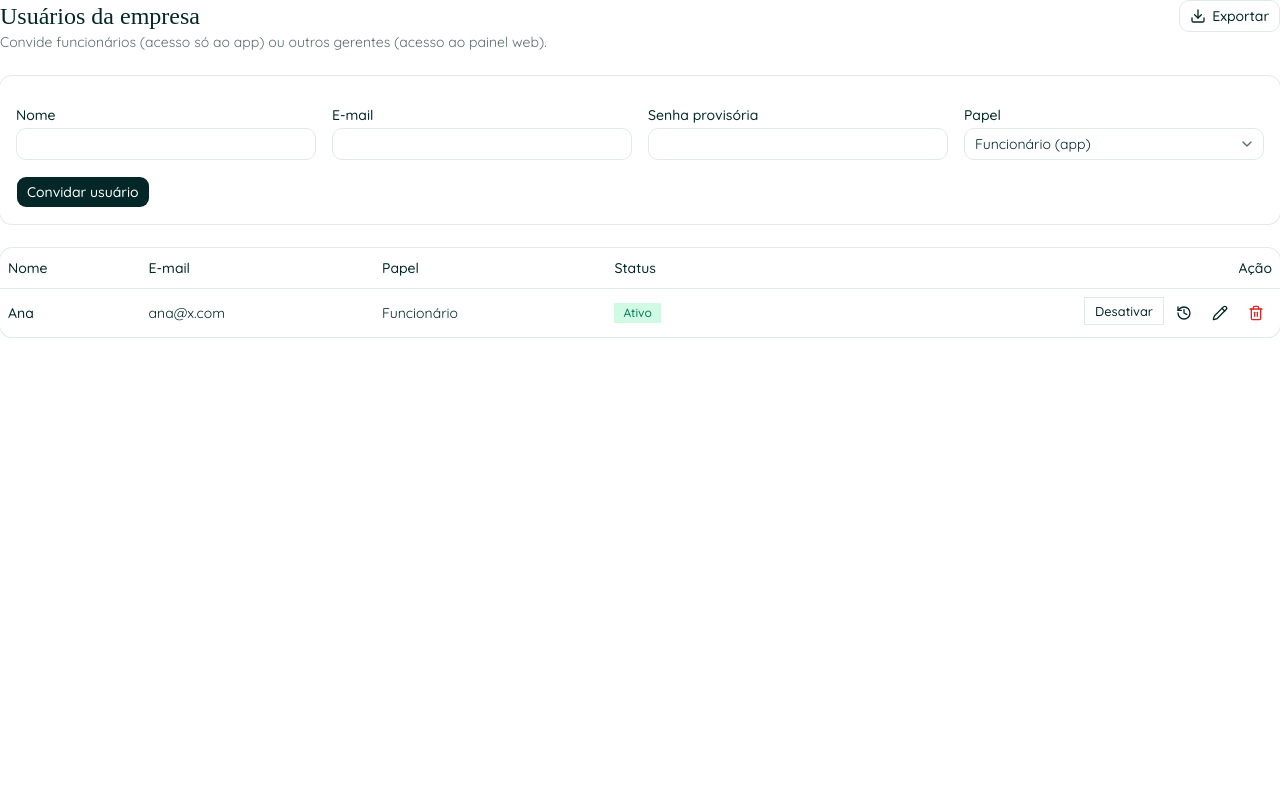
Scenario: UsersPage — gaveta Histórico › abre o histórico do usuário pela linha
This screenshot has width=1280, height=800.
Click the button named "Histórico de Ana". click: (1184,312)
box: [1168,296,1200,328]
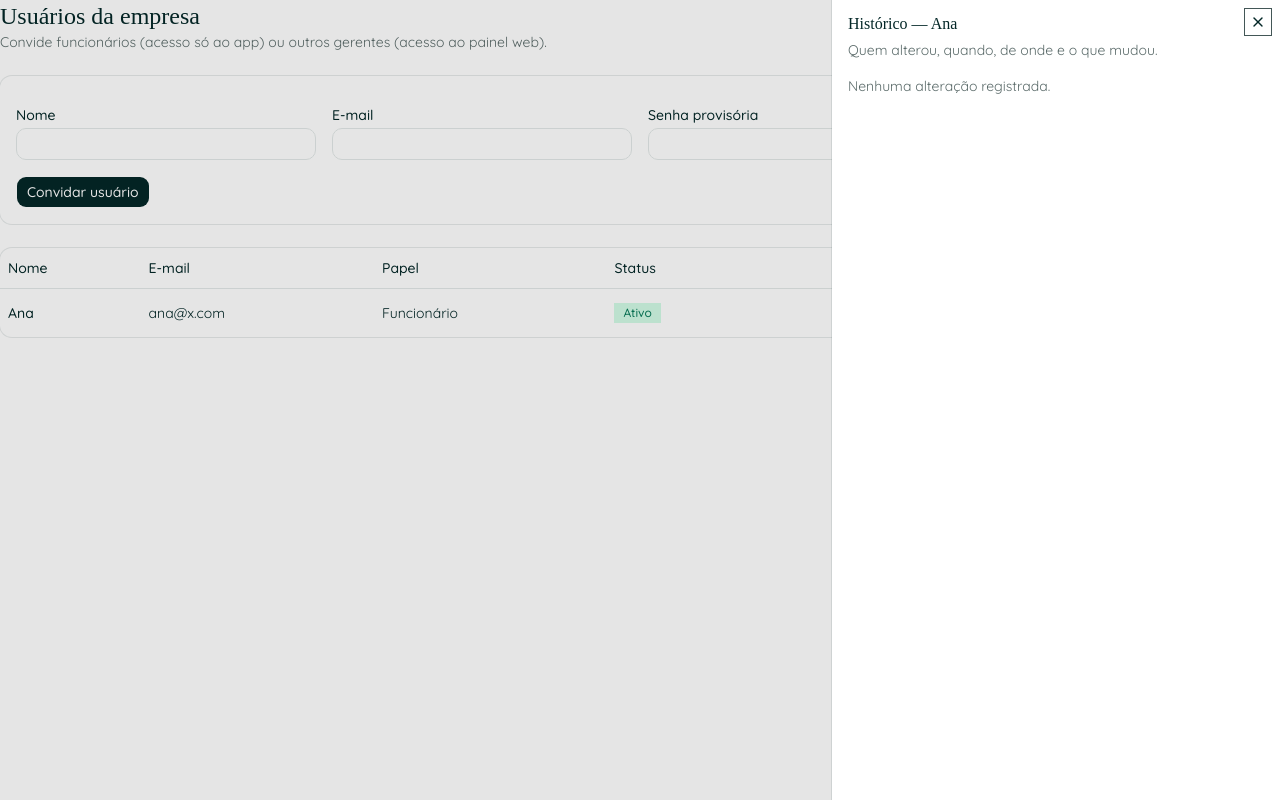
Result: the heading "Histórico — Ana" is shown at [848,15,957,32]
